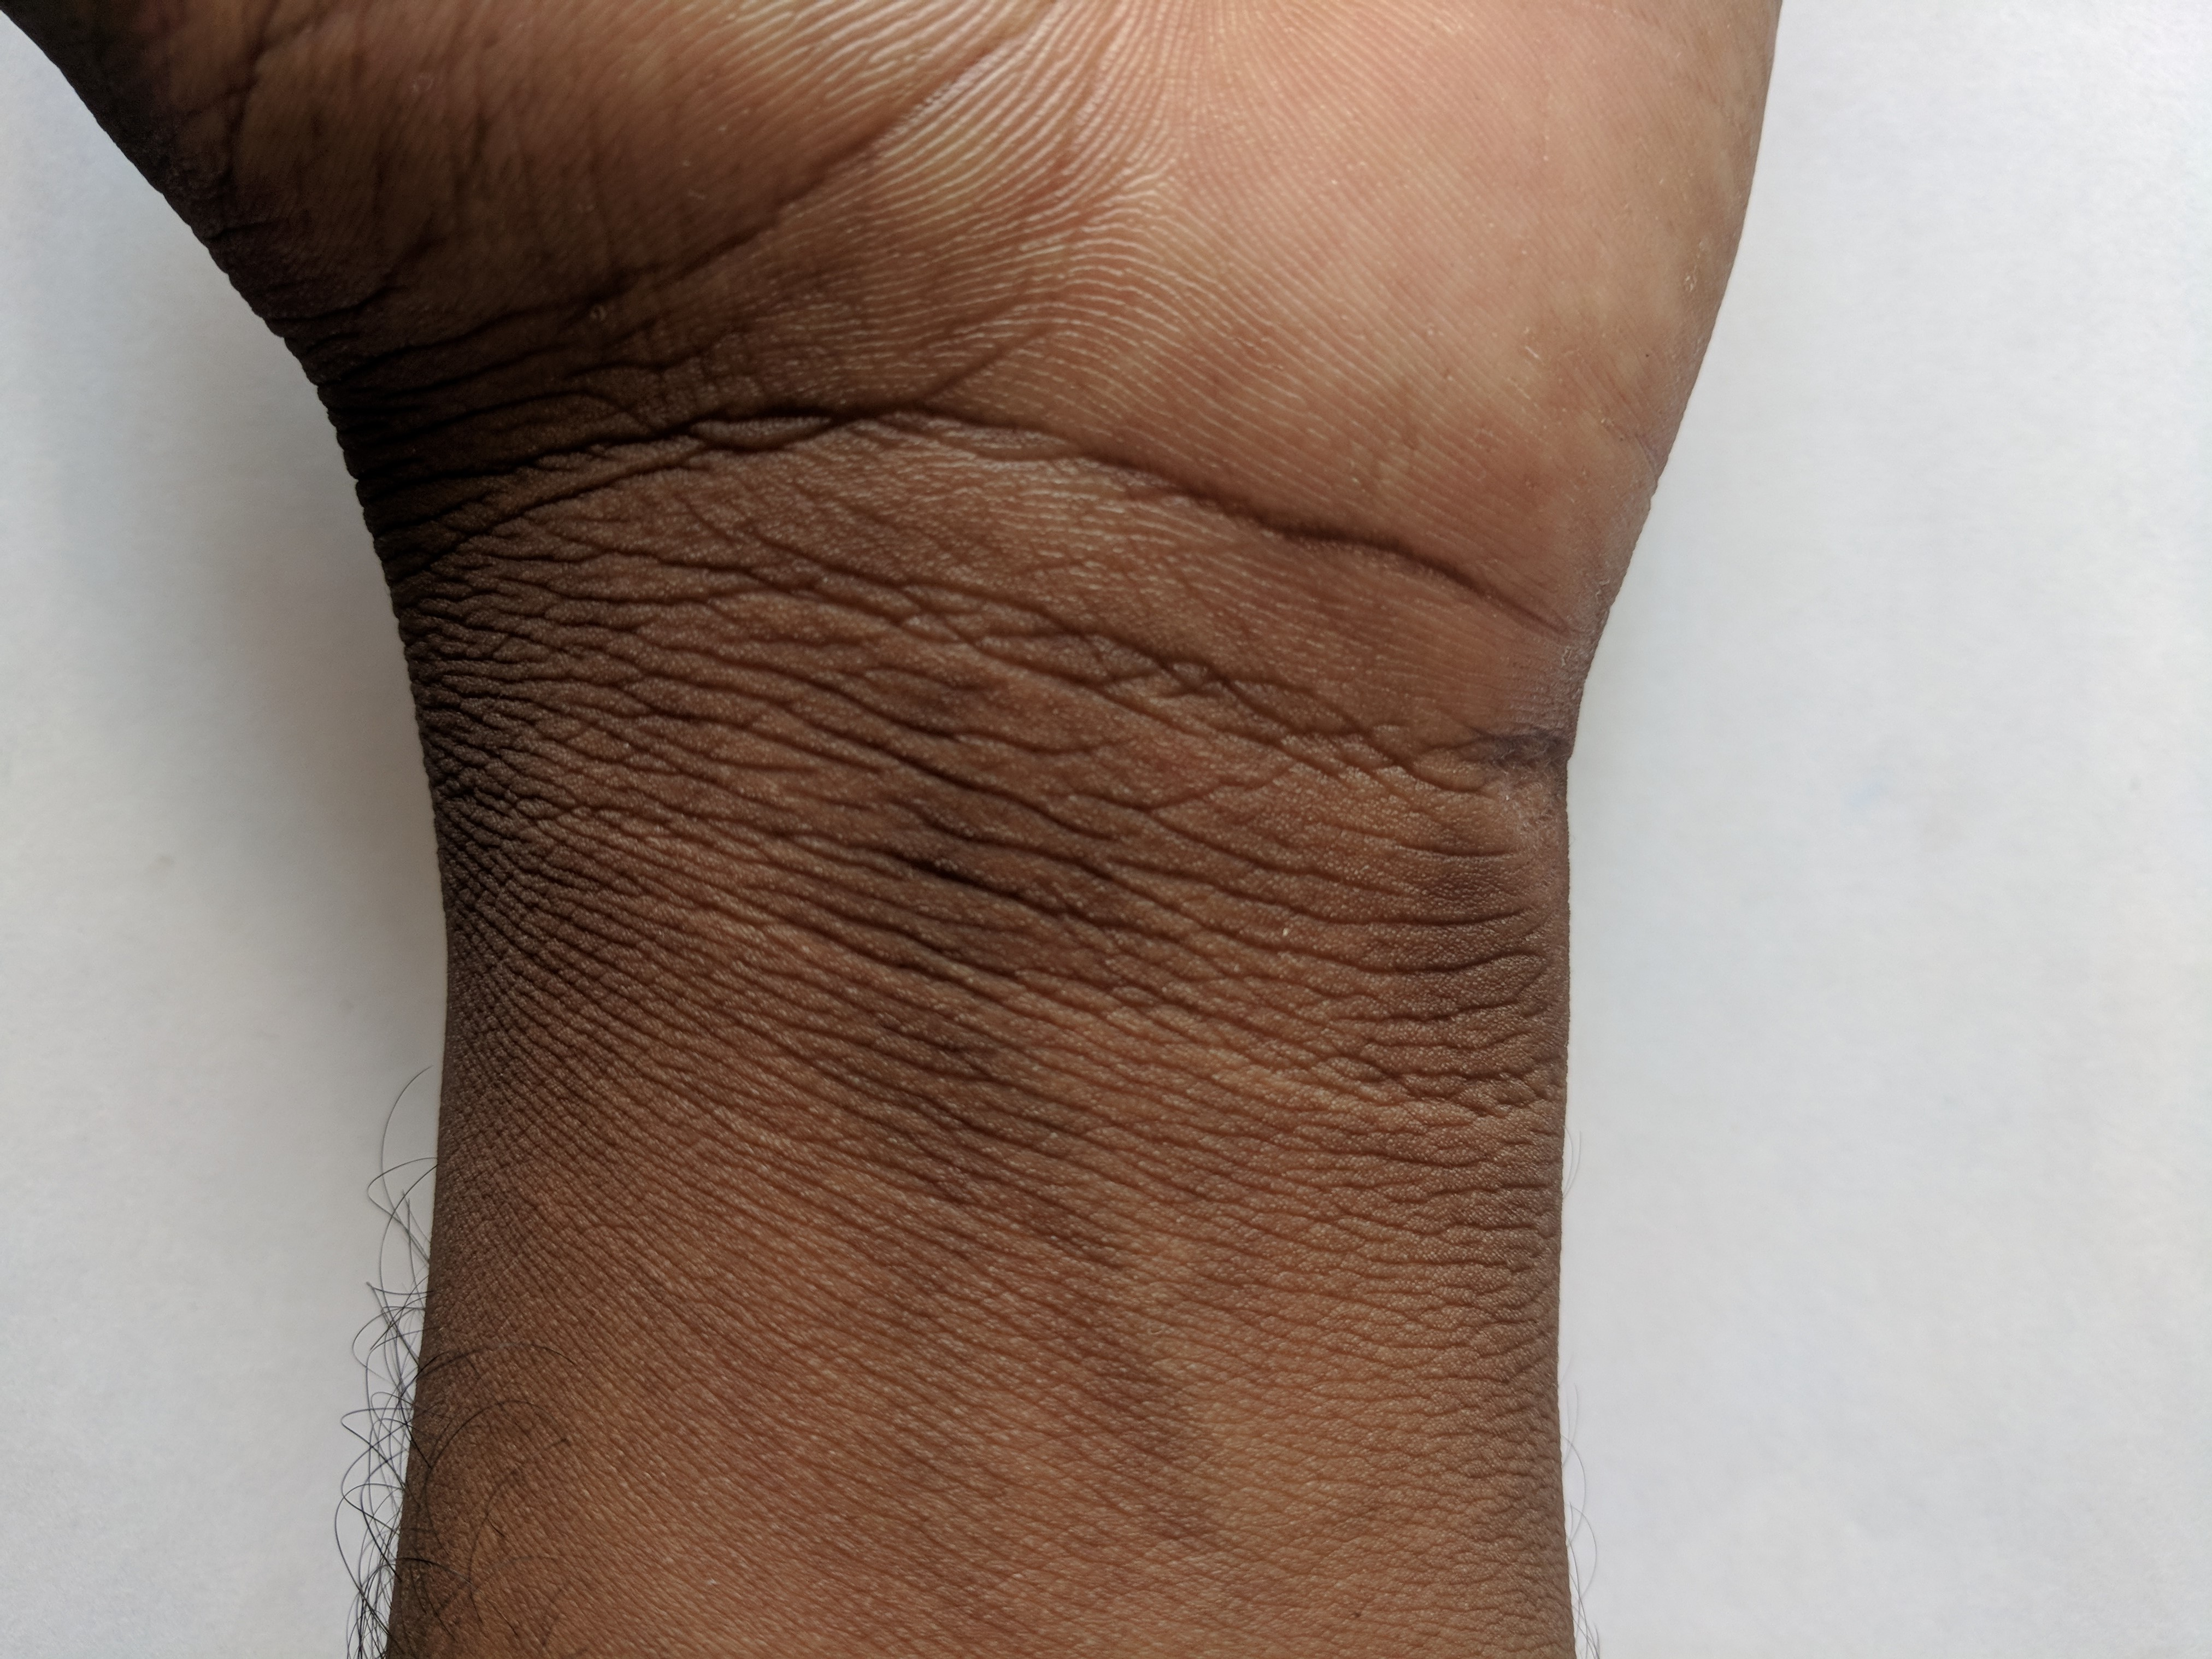lefthandwrist: (256, 301, 1724, 1053)
